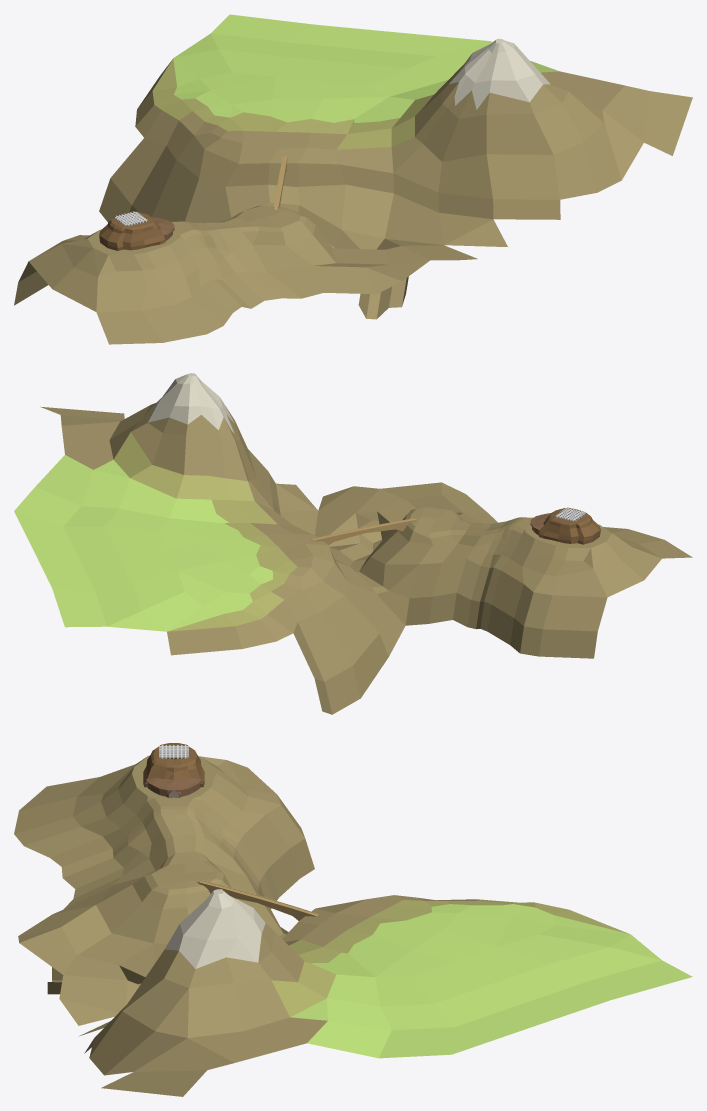
The model's file is church.fbx.
3 renders of one model, top to bottom at view 1: azimuth 30°, elevation 25°; view 2: azimuth 150°, elevation 25°; view 3: azimuth 270°, elevation 25°, orthographic. The views are drawn at different scales.
Visible parts, largest first — view 1: Plane.014, Cube.007; view 2: Plane.014, Cube.007, Cube.028; view 3: Plane.014, Cube.007, Cube.028, Cube.010.
Boxes of the visible parts, x1,y1,x2,y2 form: Plane.014: [14, 14, 692, 344]; Cube.007: [99, 211, 165, 250]; Plane.014: [14, 373, 692, 714]; Cube.007: [539, 507, 600, 544]; Cube.028: [311, 518, 416, 544]; Plane.014: [14, 755, 692, 1096]; Cube.007: [143, 743, 204, 787]; Cube.028: [197, 880, 318, 920]; Cube.010: [146, 777, 201, 797].
Size of the model in its own units: 332241 by 107033 by 259395.
